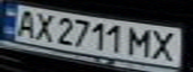1: (103, 21, 127, 54), (87, 20, 109, 51)
2: (51, 15, 75, 46)
7: (69, 17, 90, 48)
A: (9, 7, 39, 38)
M: (124, 25, 157, 58)
X: (145, 28, 184, 63), (30, 10, 57, 43)
